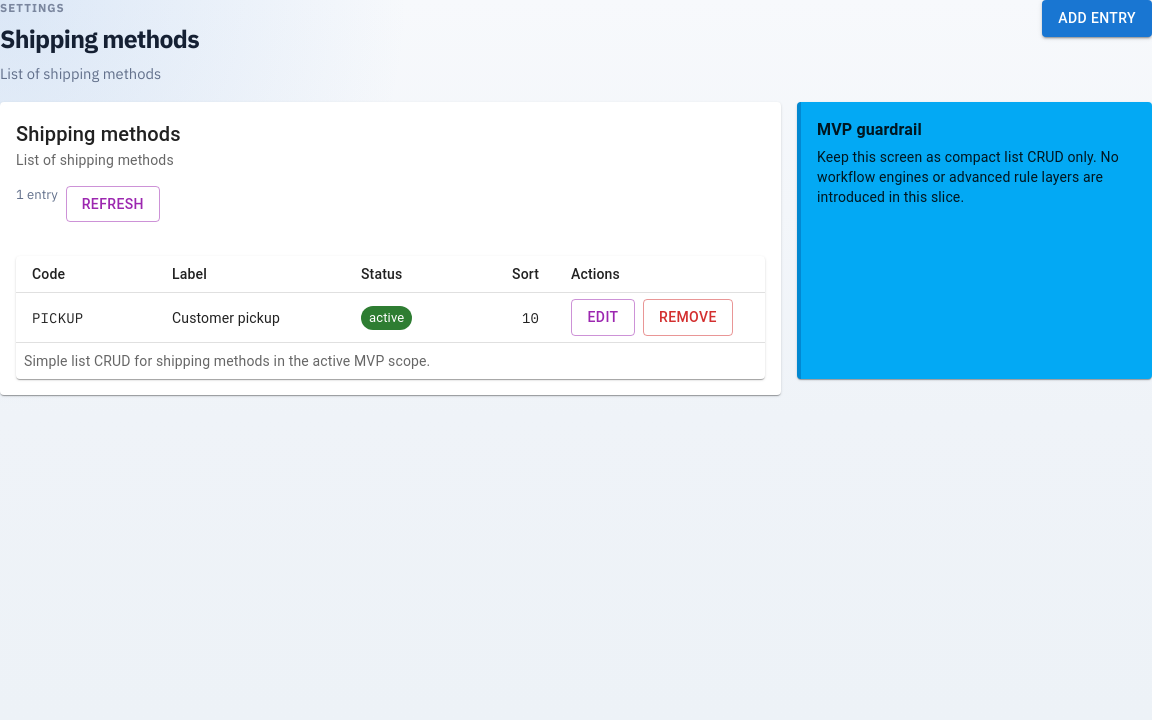
Test case: SettingsListPage › creates a new entry from dialog input
Expected: the text "PICKUP" is shown, [32,309,83,327]
Click the button "Add entry" at (1097, 18), box [1042,0,1151,36]
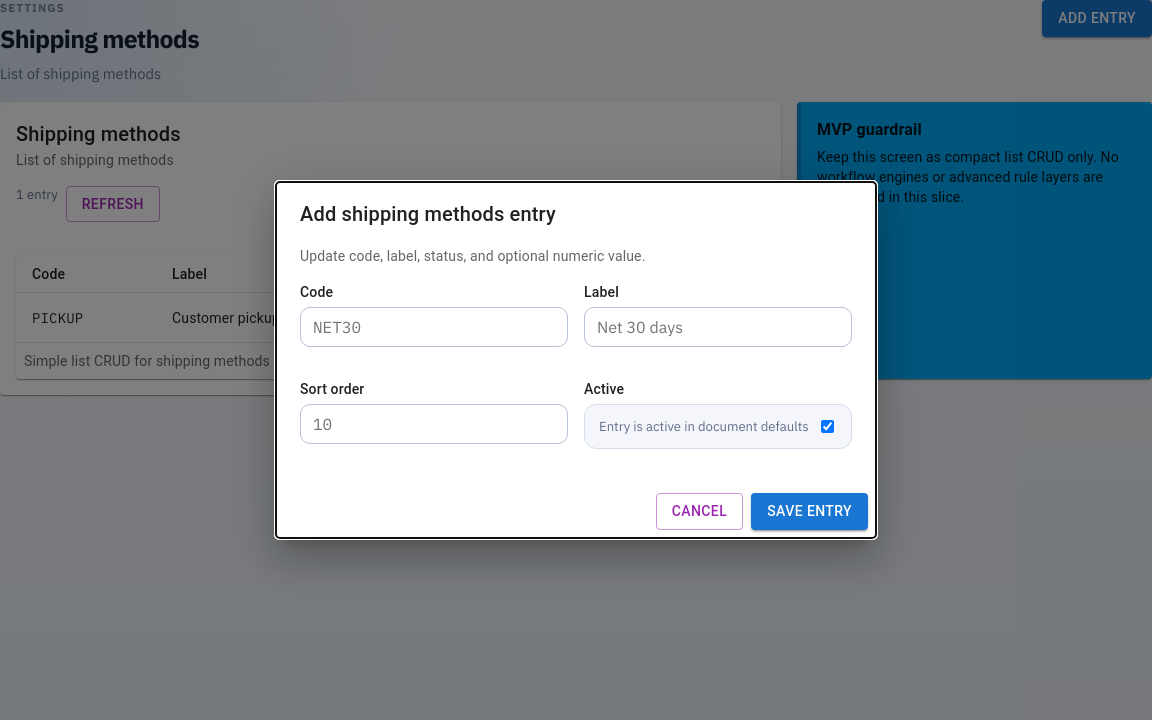
Type "DHL-EXP" into the field labelled "Code" at (434, 327), box [300,307,568,347]
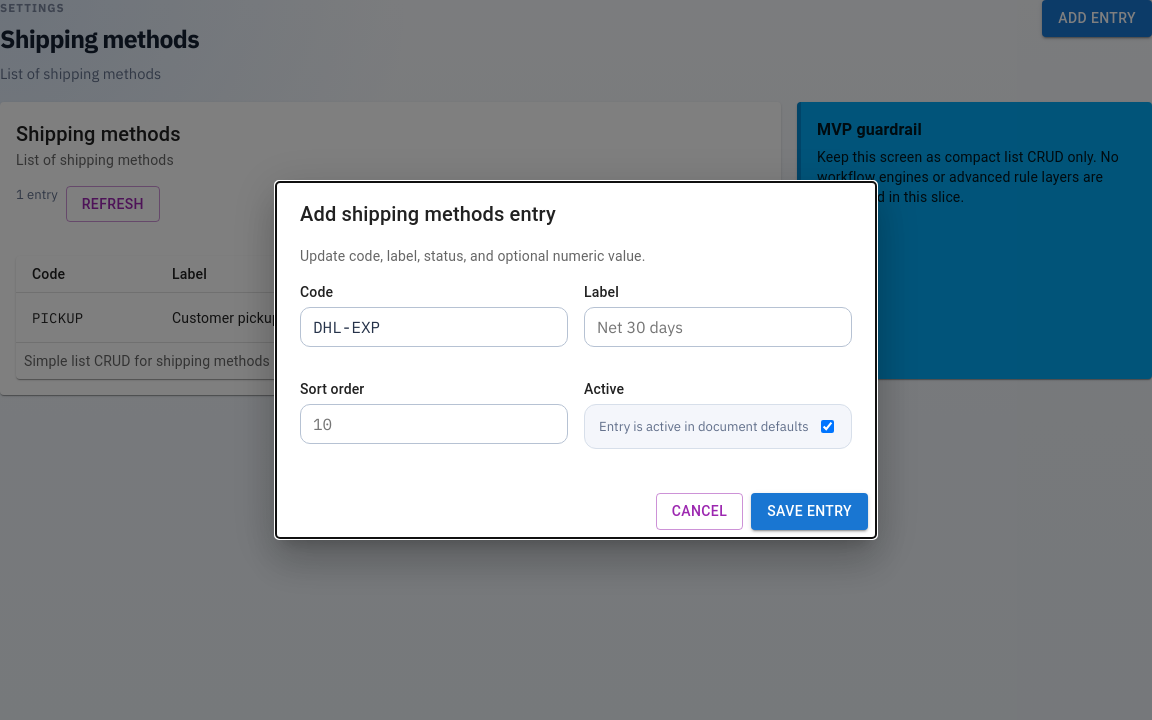
Type "DHL Express" into the field labelled "Label" at (718, 327), box [584,307,852,347]
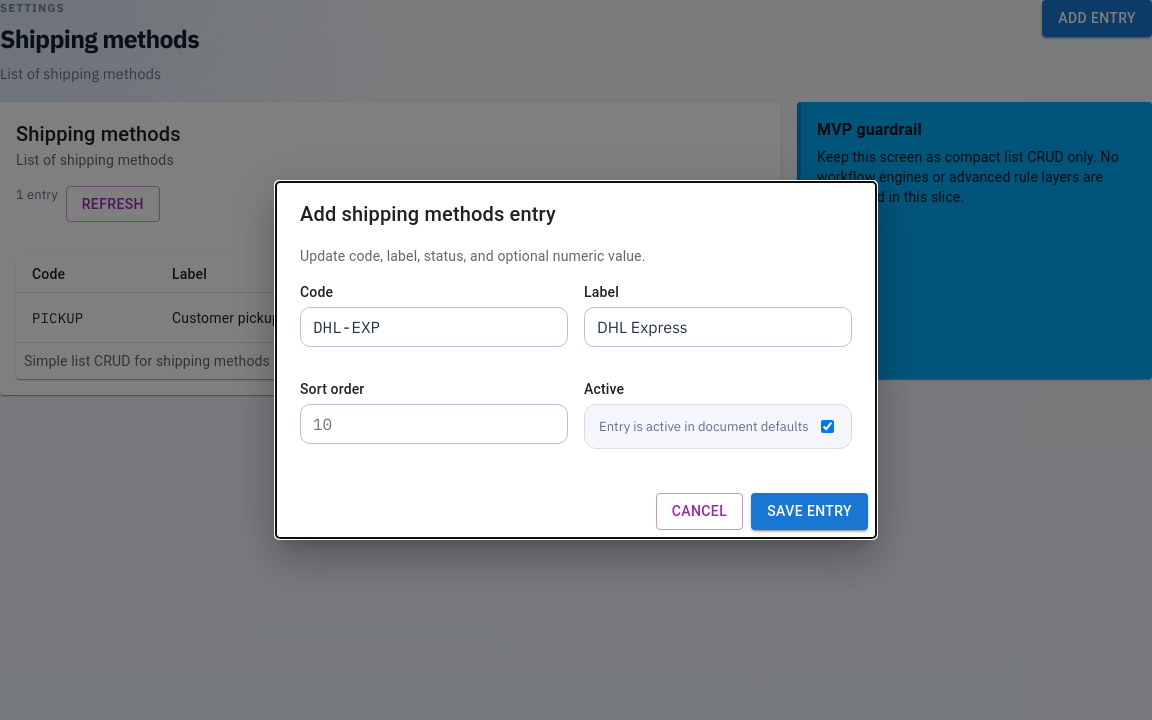
Click the button "Save entry" at (810, 511), box [751,493,868,530]
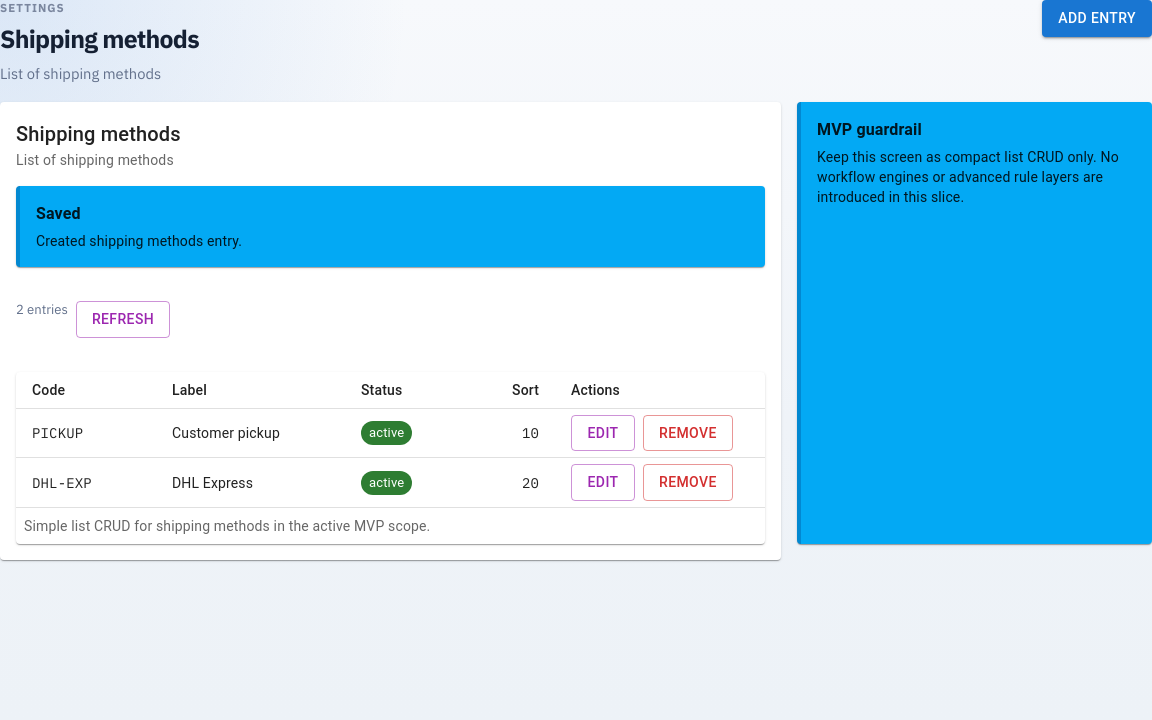
Expected: the text "DHL-EXP" is shown, [32,474,92,492]
